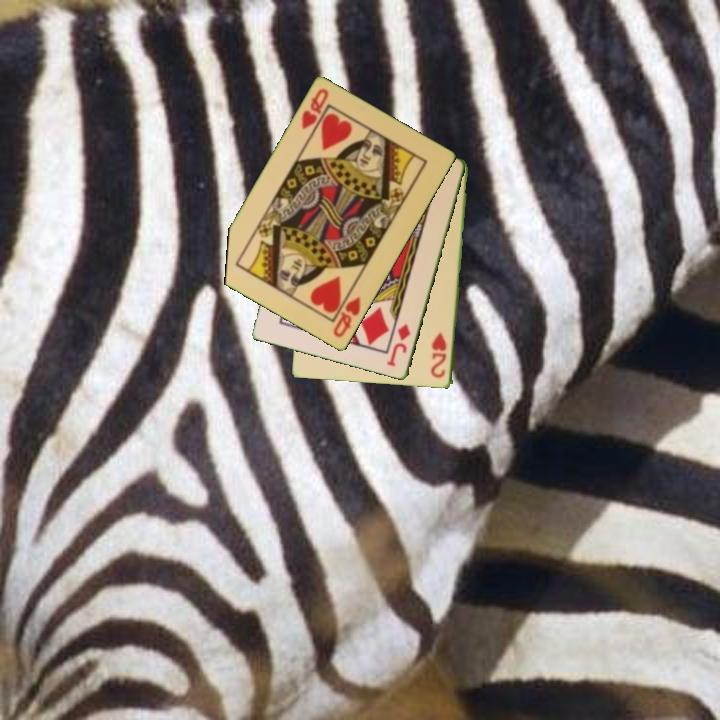2h: (428, 329, 450, 381)
Jd: (384, 321, 414, 370)
Qh: (330, 293, 364, 341), (298, 85, 332, 133)
